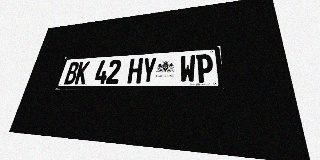2: (106, 59, 122, 84)
4: (94, 60, 110, 84)
B: (64, 62, 80, 84)
H: (127, 58, 143, 84)
K: (74, 61, 90, 84)
P: (196, 54, 214, 83)
W: (180, 55, 196, 83)
Y: (141, 57, 157, 83)
